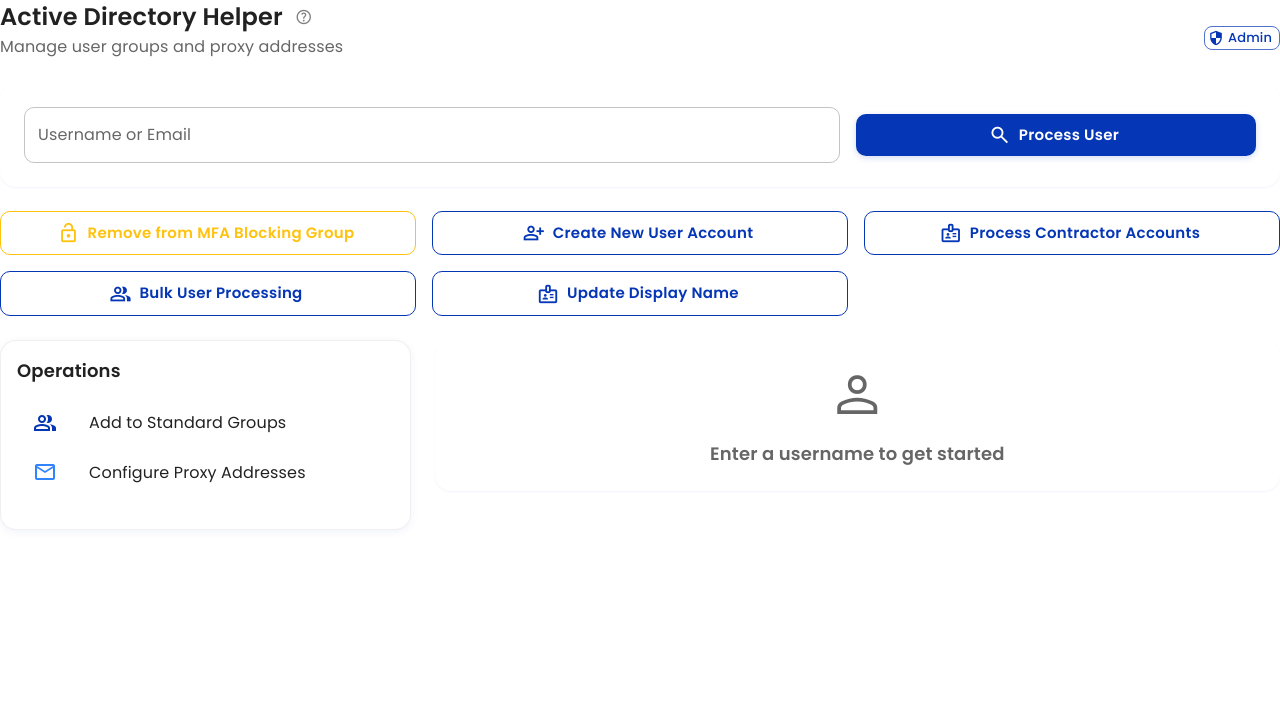
Test: ADHelper Page › Contractor Processing › opens contractor dialog when button is clicked
Expected: the heading "Active Directory Helper" is shown, left=0, top=0, right=283, bottom=34
Click the button "Process Contractor Accounts".
click(1072, 233)  # box left=864, top=211, right=1279, bottom=256
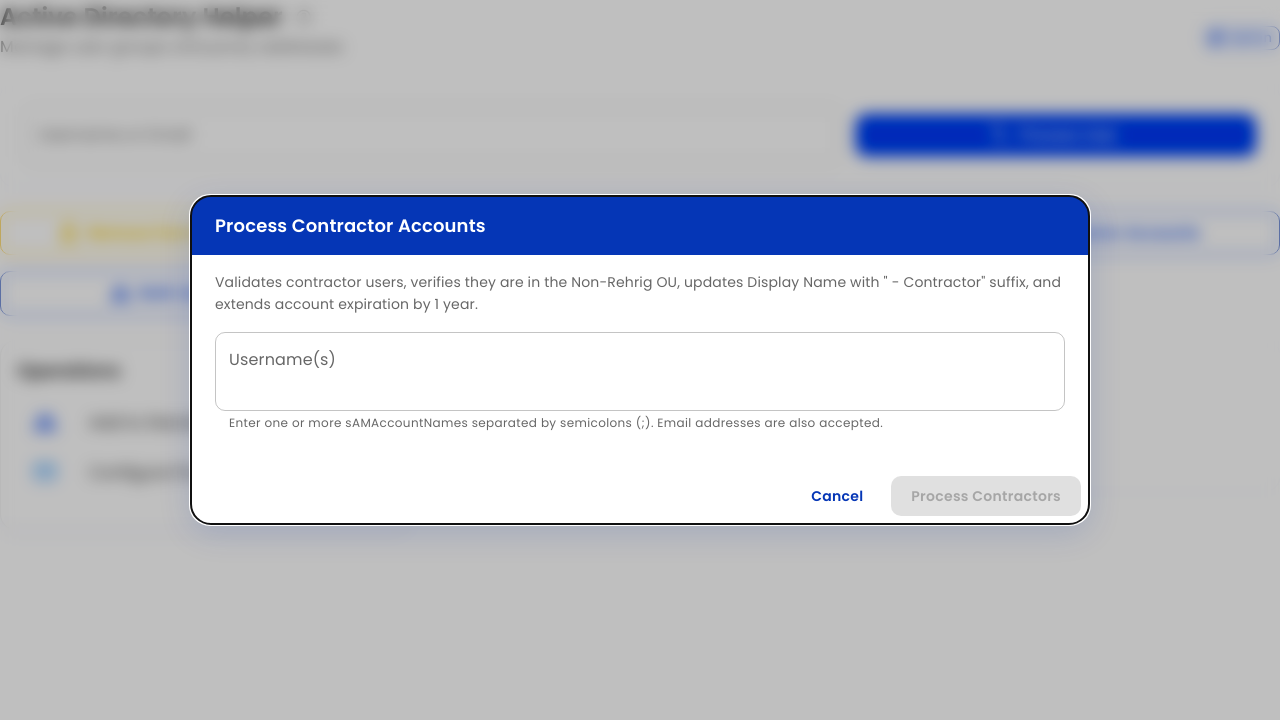
Expected: the dialog is shown, left=190, top=195, right=1090, bottom=525
